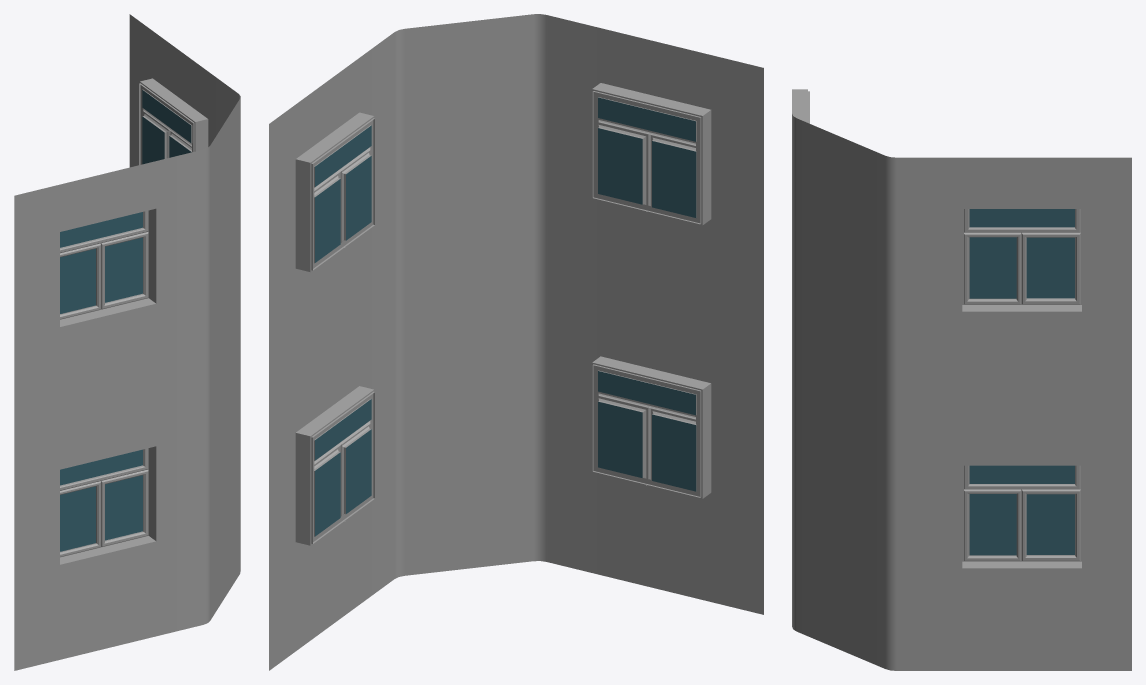
The model's file is Ext_WallCornerBot_ApartmentsDouble_2x2_001.fbx.
3 renders of one model, left to right at view 1: azimuth 30°, elevation 25°; view 2: azimuth 150°, elevation 25°; view 3: azimuth 270°, elevation 25°, orthographic. The views are drawn at different scales.
Visible parts, largest first — view 1: polySurface42, polySurface43, polySurface45, polySurface41; view 2: polySurface42, polySurface45, polySurface43, polySurface41, polySurface44; view 3: polySurface42, polySurface41, polySurface44.
Boxes of the visible parts, bbox=[...] form: polySurface42: bbox=[14, 14, 240, 670]; polySurface43: bbox=[60, 210, 148, 319]; polySurface45: bbox=[60, 448, 148, 556]; polySurface41: bbox=[139, 83, 194, 164]; polySurface42: bbox=[269, 14, 763, 670]; polySurface45: bbox=[592, 364, 701, 497]; polySurface43: bbox=[592, 91, 701, 224]; polySurface41: bbox=[311, 118, 374, 270]; polySurface44: bbox=[311, 391, 374, 543]; polySurface42: bbox=[792, 89, 1131, 670]; polySurface41: bbox=[964, 209, 1080, 304]; polySurface44: bbox=[964, 465, 1080, 560].
Size of the model in its own units: 300 by 500 by 300.
